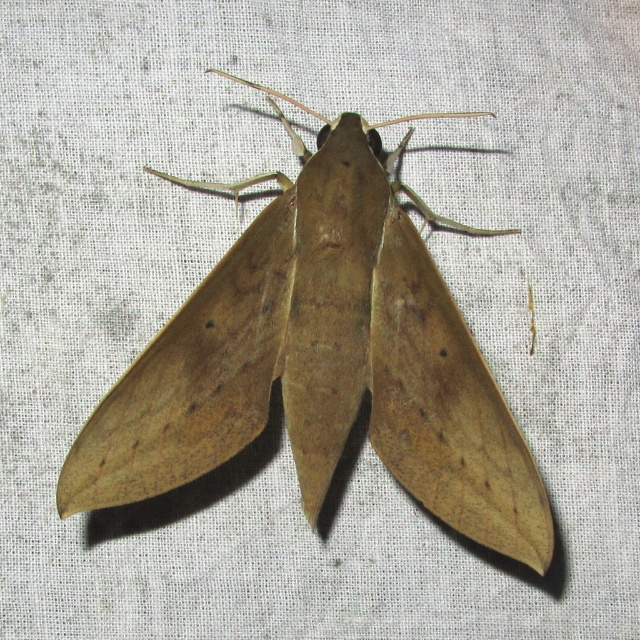Moths and butterflies: (56, 66, 558, 580)
